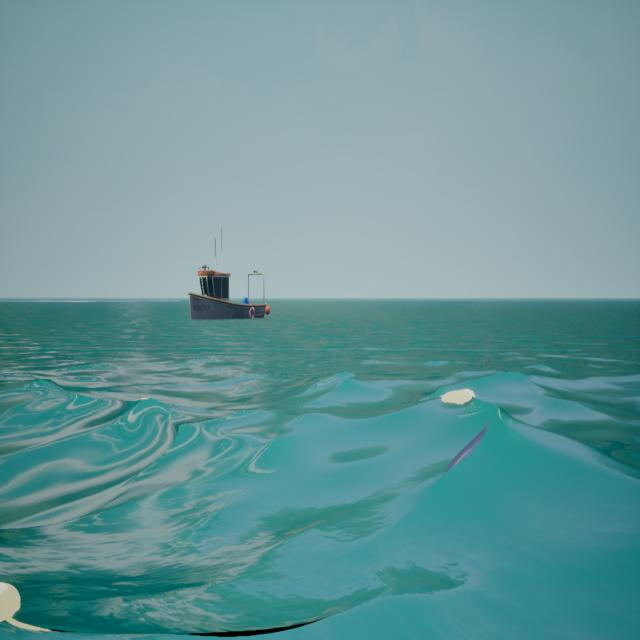ship: (183, 215, 278, 339)
